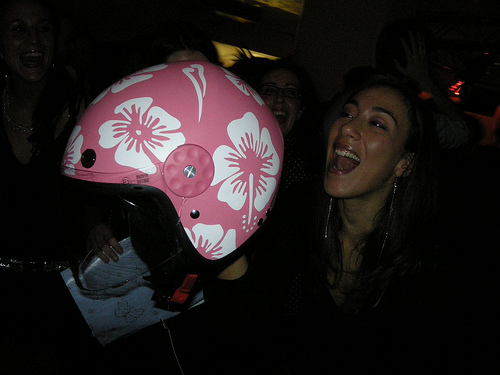helmet: (68, 45, 295, 252)
